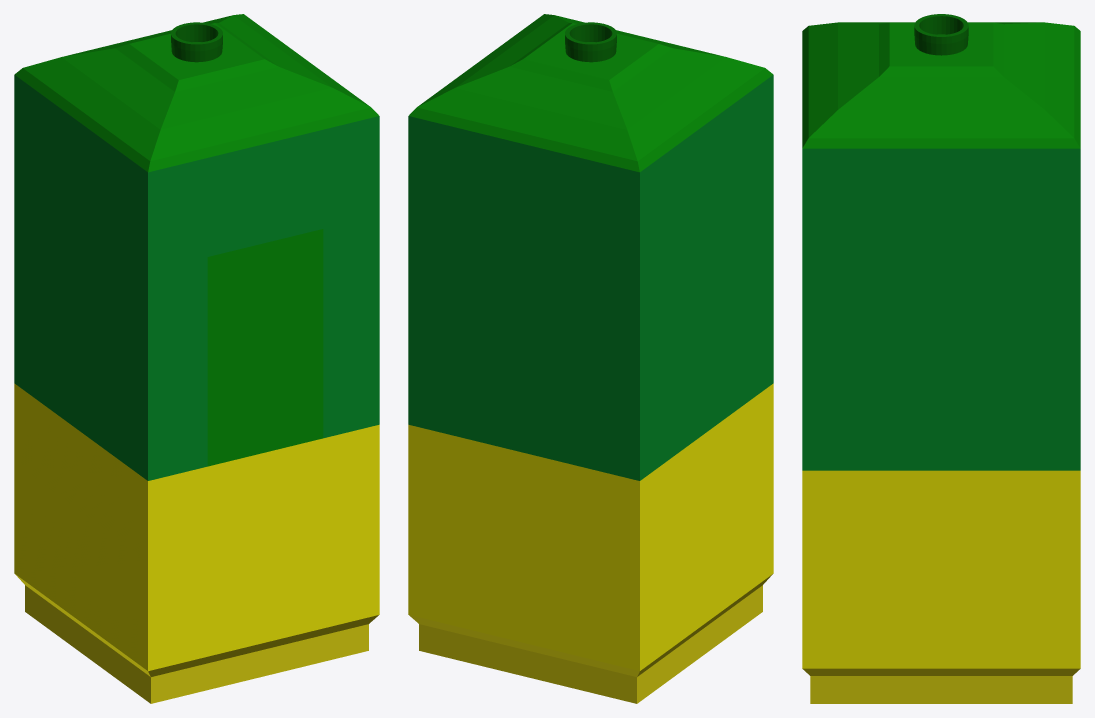
The model's file is pineapple juice.fbx.
3 views of the same model, side by side, from view 1: azimuth 30°, elevation 25°; view 2: azimuth 150°, elevation 25°; view 3: azimuth 270°, elevation 25° (orthographic). The views are drawn at different scales.
Parts seen in each view (by area): view 1: Cube.003; view 2: Cube.003; view 3: Cube.003.
Boxes of the visible parts, <box> form: Cube.003: <box>14,14,379,703</box>; Cube.003: <box>408,14,773,703</box>; Cube.003: <box>802,14,1080,703</box>.
Bounding box in the file's own units: 27.17 × 67.05 × 27.17.
